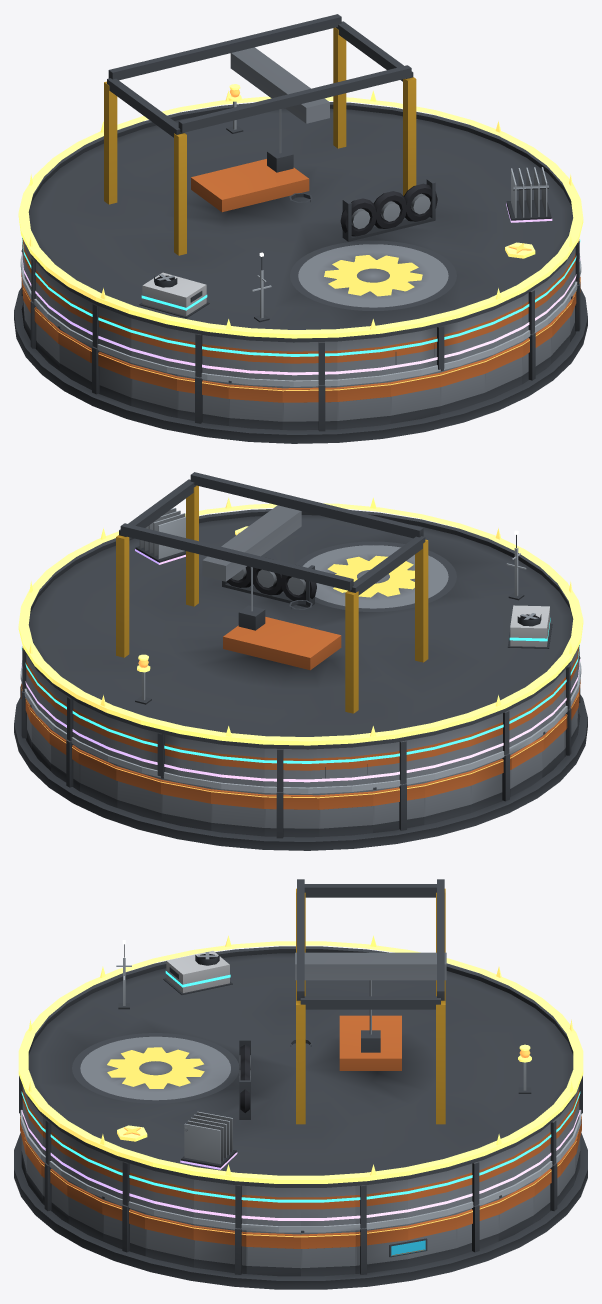
File: parts_works_m.glb
3 views of the same model, one above another, from view 1: azimuth 30°, elevation 25°; view 2: azimuth 150°, elevation 25°; view 3: azimuth 270°, elevation 25° (orthographic).
Visible parts, largest first — view 1: Roof, Base, Wall_21, Wall_20, Wall_22, L3, Wall_19, Wall_23, Wall_18, Upper_21, Wall_24, Upper_20 (+24 smaller); view 2: Roof, Base, Wall_10, Wall_11, Wall_09, Wall_12, Wall_08, Wall_13, Upper_10, Wall_07, L3, Upper_11 (+26 smaller); view 3: Roof, Base, L4, Wall_00, Wall_31, Wall_30, L3, Wall_29, Wall_01, Wall_02, Wall_28, Wall_03 (+25 smaller).
Part boxes in pixels (x1,y1,x2,y2): Roof: (26,14,576,342); Base: (14,287,587,443); Wall_21: (282,385,337,431); Wall_20: (228,380,282,429); Wall_22: (337,380,390,429); L3: (139,193,312,318); Wall_19: (177,374,228,425); Wall_23: (390,371,440,423); Wall_18: (130,363,177,417); Upper_21: (282,341,337,384); Wall_24: (440,358,485,414); Upper_20: (229,338,282,379); Roof: (25,472,574,749); Base: (14,694,587,850); Wall_10: (264,792,319,838); Wall_11: (319,789,373,836); Wall_09: (211,787,264,836); Wall_12: (373,781,424,832); Wall_08: (161,776,211,830); Wall_13: (424,770,471,824); Upper_10: (264,748,319,791); Wall_07: (116,765,161,821); L3: (289,600,552,648); Upper_11: (319,745,372,786); Roof: (27,879,574,1187); Base: (14,1133,587,1289); L4: (180,1111,237,1169); Wall_00: (301,1230,355,1276); Wall_31: (246,1230,300,1276); Wall_30: (193,1224,246,1274); L3: (163,951,312,1047); Wall_29: (145,1213,193,1267); Wall_01: (355,1224,408,1274); Wall_02: (408,1213,456,1267); Wall_28: (102,1196,145,1256); Wall_03: (456,1198,499,1256).
Bounding box in the file's own units: 14.75 × 6.53 × 14.75.
